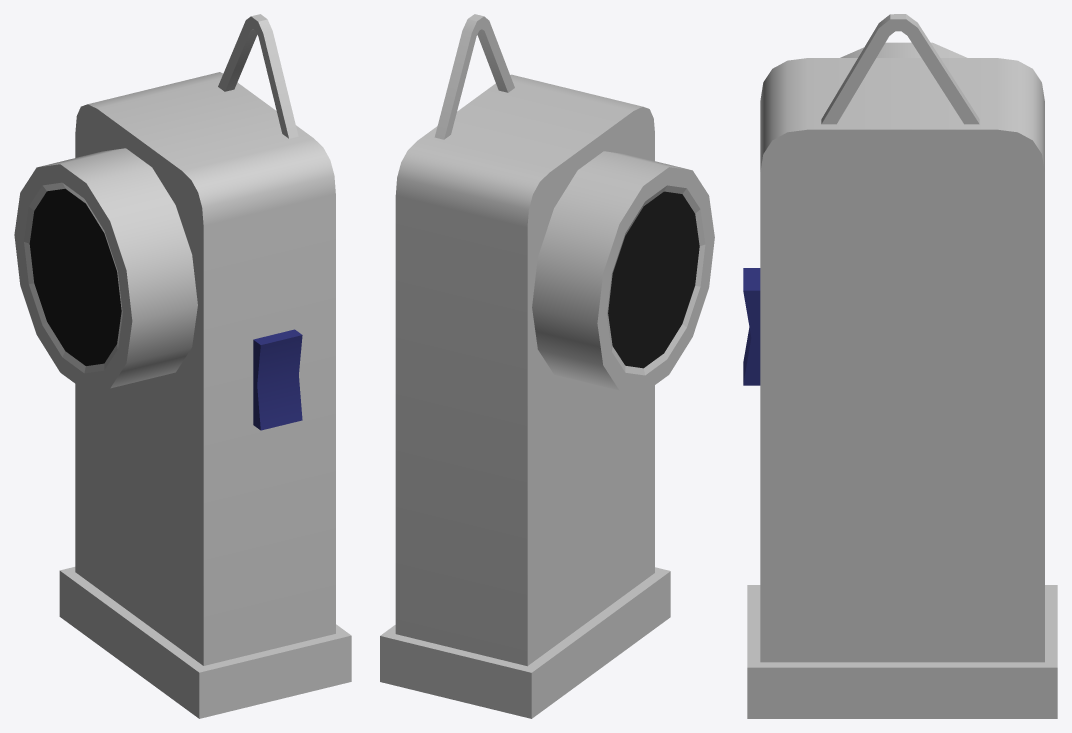
Rendered from body_flash_light.fbx.
3 renders of one model, left to right at view 1: azimuth 30°, elevation 25°; view 2: azimuth 150°, elevation 25°; view 3: azimuth 270°, elevation 25°, orthographic. The views are drawn at different scales.
Visible parts, largest first — view 1: Line001, Shape001, Box002; view 2: Line001, Shape001; view 3: Line001, Box002.
Part boxes in pixels (<box>): Line001: <box>14,14,351,718</box>; Shape001: <box>29,188,121,365</box>; Box002: <box>253,329,302,430</box>; Line001: <box>380,14,714,718</box>; Shape001: <box>608,191,699,368</box>; Line001: <box>747,14,1057,718</box>; Box002: <box>743,268,760,385</box>.
Size of the model in its own units: 18.31 by 52.24 by 21.61.
